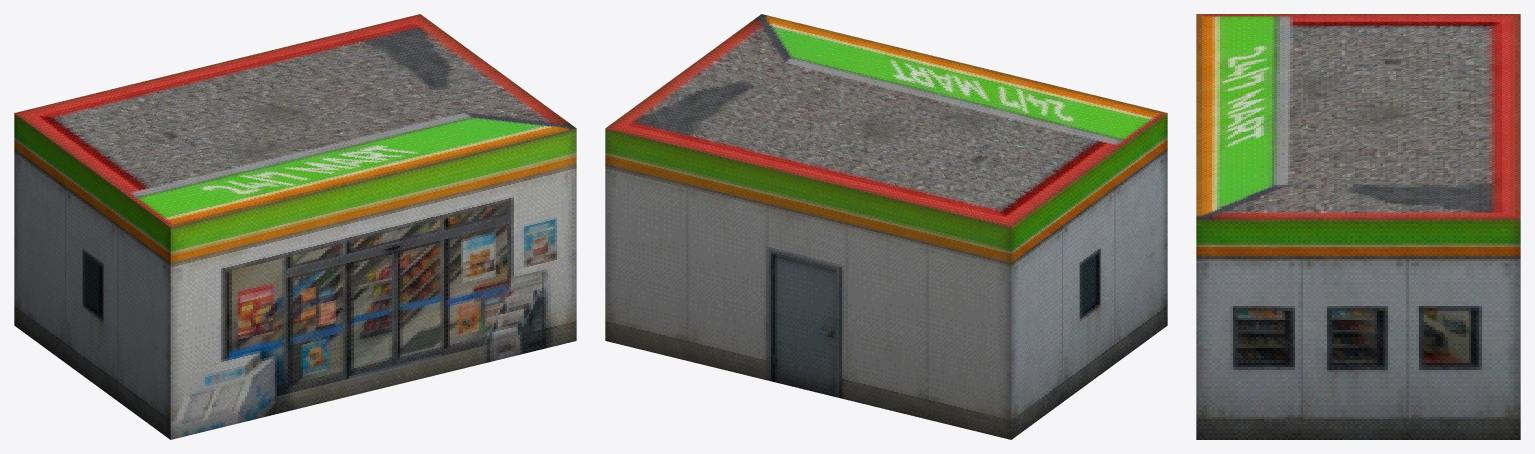
Rendered from mart.glb.
3 views of the same model, side by side, from view 1: azimuth 30°, elevation 25°; view 2: azimuth 150°, elevation 25°; view 3: azimuth 270°, elevation 25° (orthographic). The views are drawn at different scales.
Visible parts, largest first — view 1: Modern 24 7; view 2: Modern 24 7; view 3: Modern 24 7.
Part boxes in pixels (box(x1,y1,x2,y2)): Modern 24 7: box(14, 14, 576, 439); Modern 24 7: box(605, 14, 1167, 439); Modern 24 7: box(1196, 14, 1520, 439).
Size of the model in its own units: 12 by 6 by 8.
Materials: 1 (1 with a texture image).
